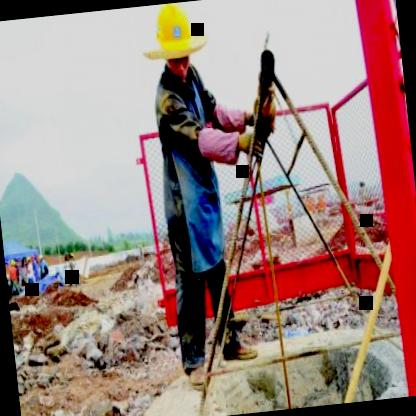helmet: (147, 0, 209, 89)
